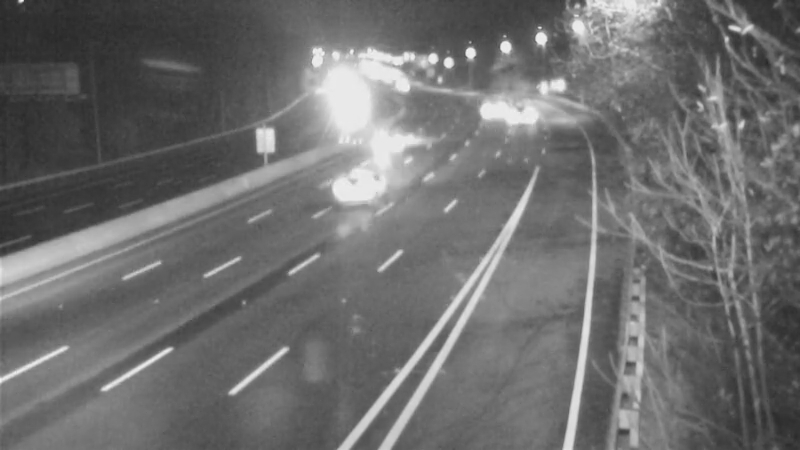vehicle: (311, 146, 391, 226), (464, 84, 514, 134), (500, 87, 550, 137), (360, 123, 410, 173)
